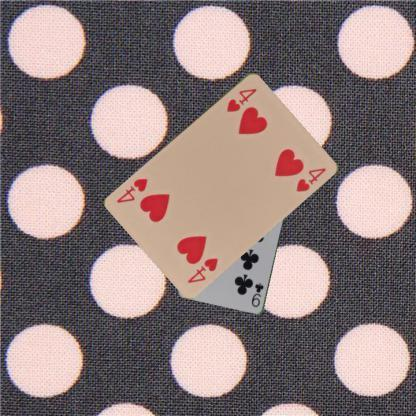4h: (184, 254, 219, 284), (224, 84, 258, 113)
9c: (249, 280, 265, 309)
